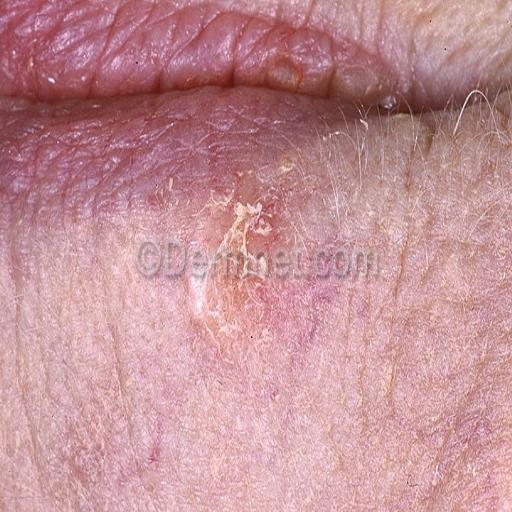Skin_Lesion: (189, 193, 274, 352)
